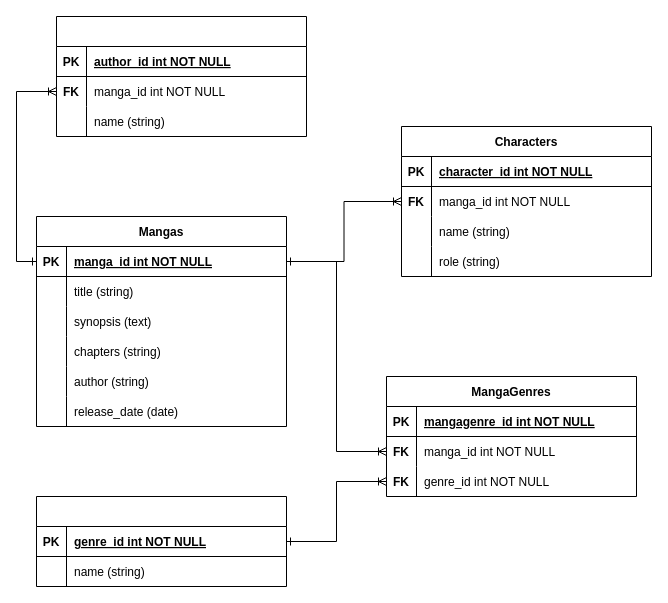
Image size: 668x603. Some labels were removed from this diagram. Each missing label, with the box of its shape:
Authors: (56, 16, 306, 136)
Genres: (36, 496, 286, 586)
